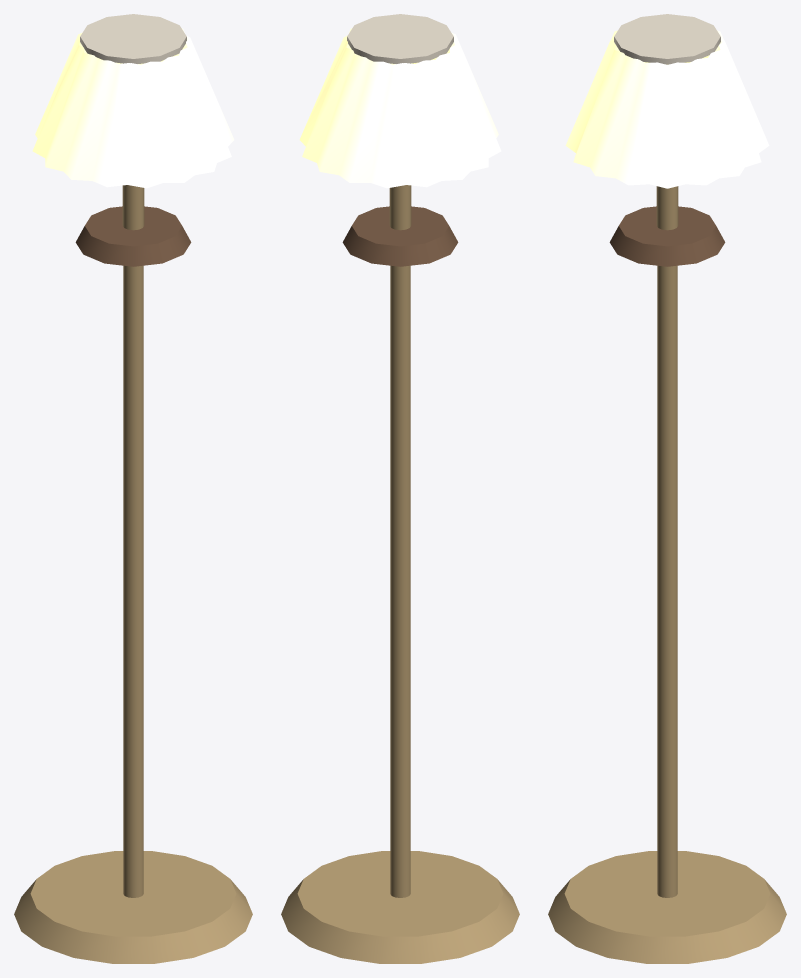
Rendered from bedroom_ref_floor_lamp.glb.
3 renders of one model, left to right at view 1: azimuth 30°, elevation 25°; view 2: azimuth 150°, elevation 25°; view 3: azimuth 270°, elevation 25°, orthographic.
Size of the model in its own units: 0.5712 by 2.35 by 0.58.
